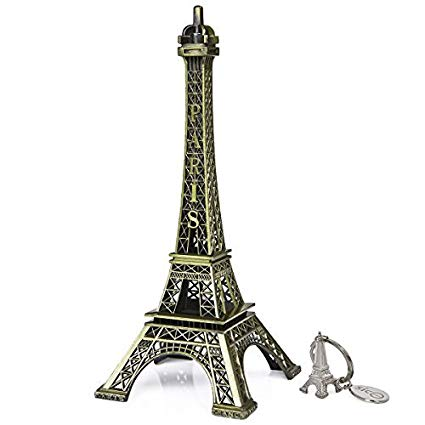eiffel tower: (85, 1, 308, 421)
